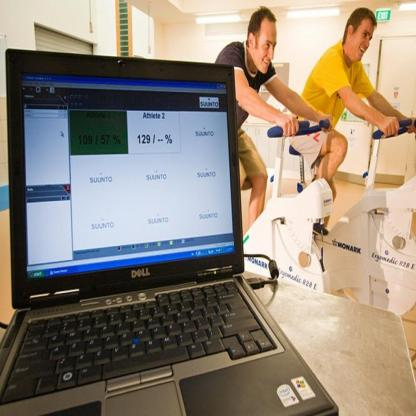board: (0, 62, 339, 416)
